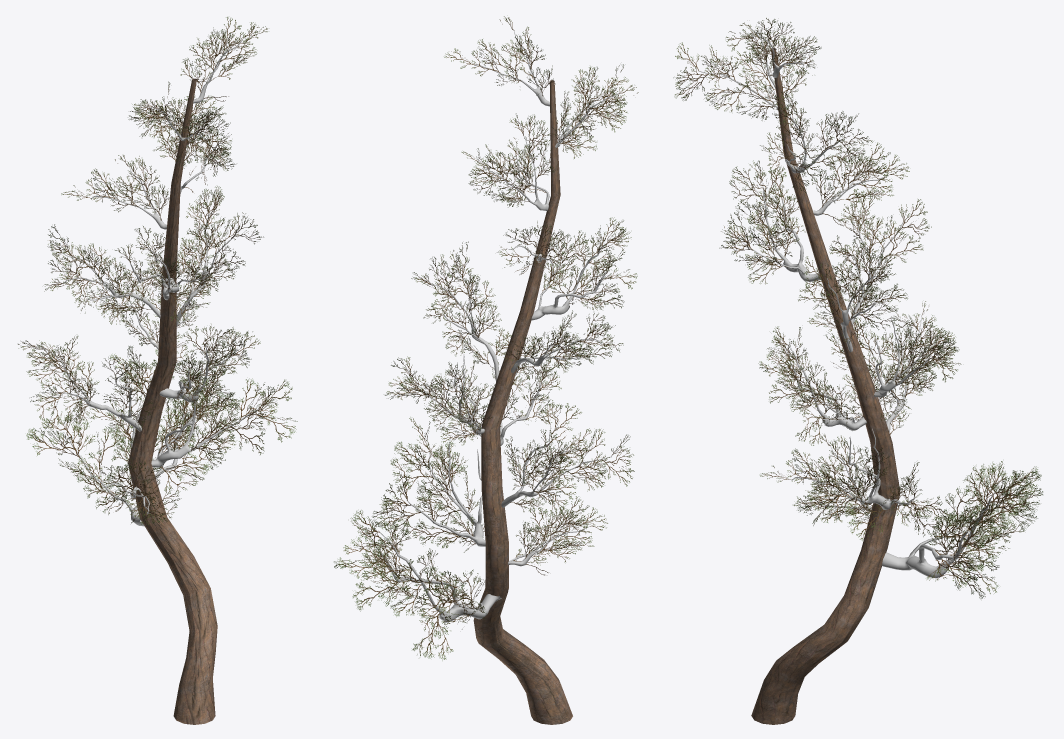
File: SM_MountainTree_03.fbx
The picture shows the model from 3 angles, left to right: view 1: azimuth 30°, elevation 25°; view 2: azimuth 150°, elevation 25°; view 3: azimuth 270°, elevation 25°; orthographic projection. The views are drawn at different scales.
Visible parts, largest first — view 1: SM_MountainTree_03_LOD0; view 2: SM_MountainTree_03_LOD0; view 3: SM_MountainTree_03_LOD0.
Part boxes in pixels (x1=…): SM_MountainTree_03_LOD0: x1=18, y1=17, x2=297, y2=724; SM_MountainTree_03_LOD0: x1=334, y1=16, x2=638, y2=724; SM_MountainTree_03_LOD0: x1=673, y1=18, x2=1042, y2=724.
Size of the model in its own units: 900 by 1107 by 2307.
